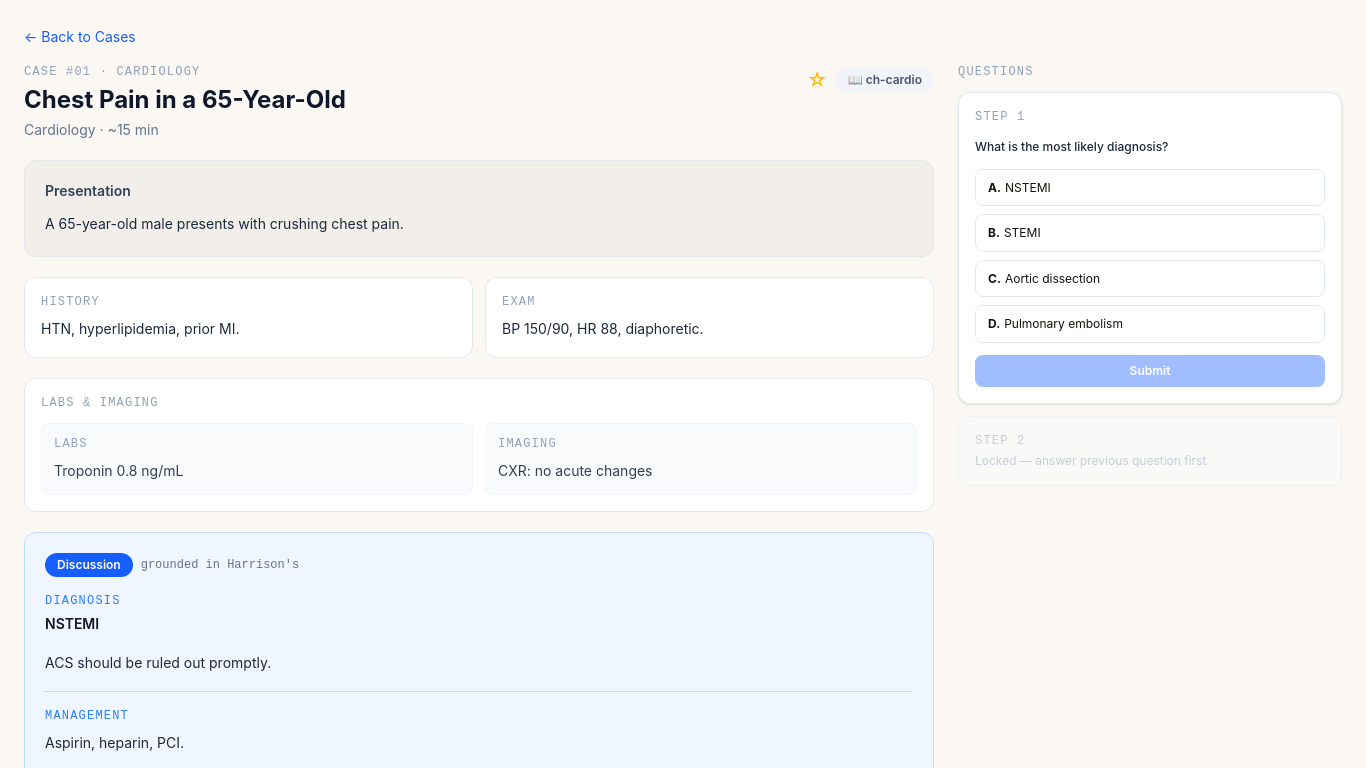
Test: CaseDetailPage › toggles bookmark from unstarred to starred on click
Click the button titled "Bookmark case" at (817, 80), box [807,70,828,90]
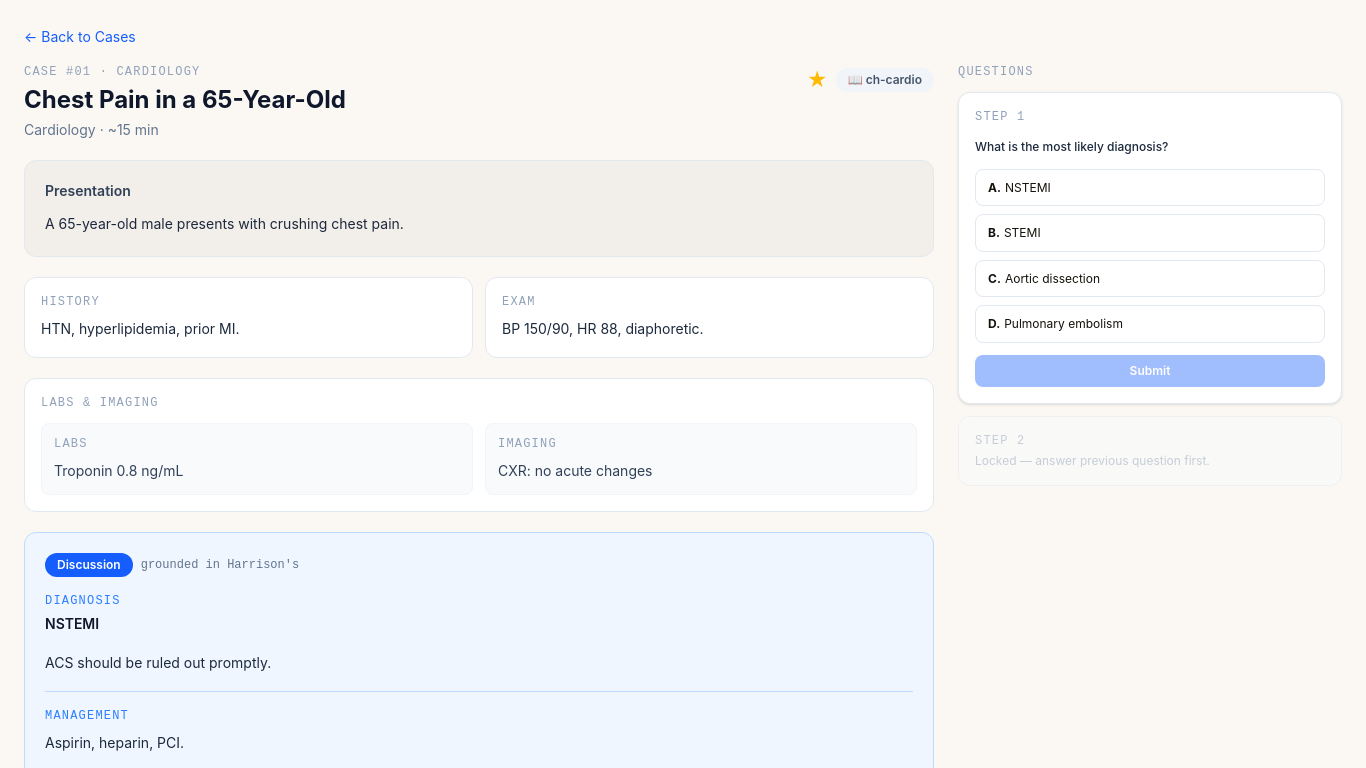
Check: the button titled "Remove bookmark" is shown, box [807,70,828,90]
